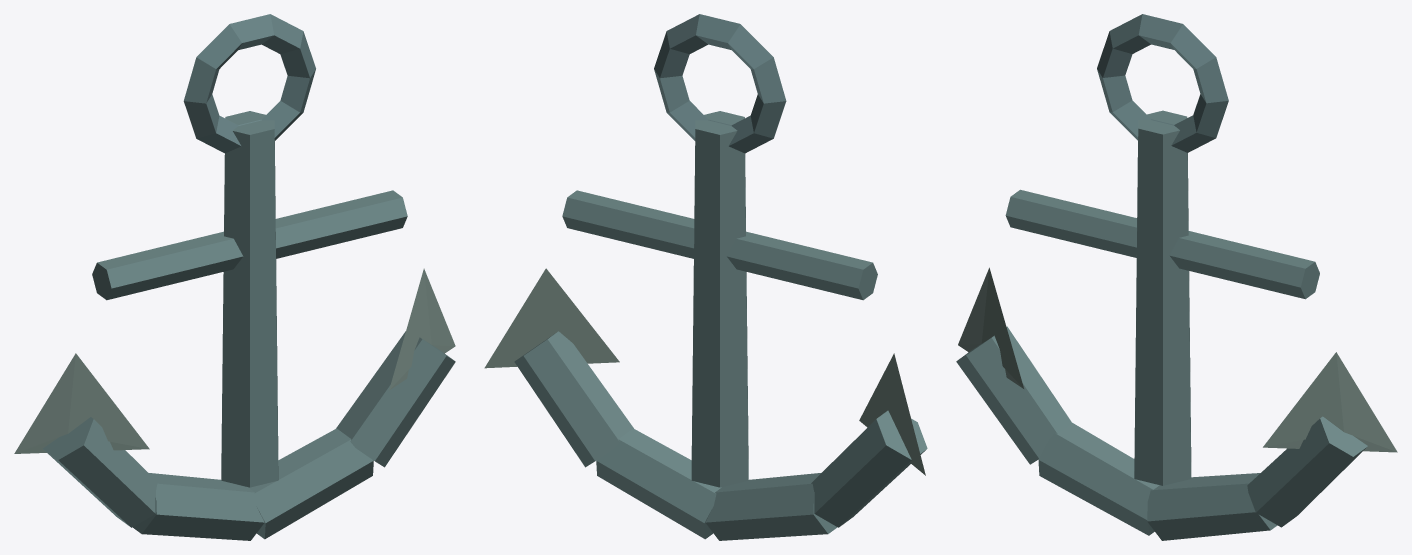
File: map-exclusive-v3__shore_08.glb
3 views of the same model, side by side, from view 1: azimuth 30°, elevation 25°; view 2: azimuth 150°, elevation 25°; view 3: azimuth 330°, elevation 25° (orthographic).
Parts seen in each view (by area): view 1: shore_08; view 2: shore_08; view 3: shore_08.
Part boxes in pixels (box(x1,y1,x2,y2)): shore_08: box(14, 14, 455, 540); shore_08: box(484, 14, 927, 540); shore_08: box(956, 14, 1397, 540).
Bounding box in the file's own units: 1.7 × 1.9 × 0.235.
